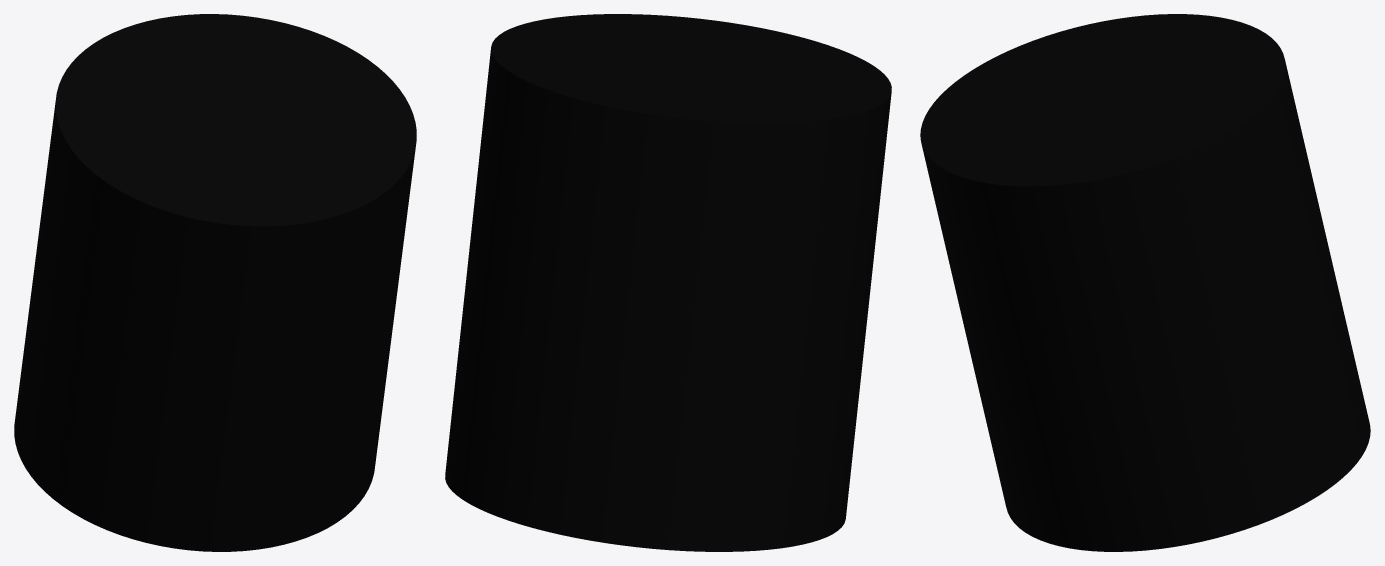
The model's file is cyl.glb.
The picture shows the model from 3 angles, left to right: view 1: azimuth 30°, elevation 25°; view 2: azimuth 150°, elevation 25°; view 3: azimuth 270°, elevation 25°; orthographic projection. The views are drawn at different scales.
Visible parts, largest first — view 1: mesh_id42; view 2: mesh_id42; view 3: mesh_id42.
Boxes of the visible parts, x1=… form: mesh_id42: x1=14, y1=14, x2=416, y2=551; mesh_id42: x1=445, y1=14, x2=891, y2=551; mesh_id42: x1=920, y1=14, x2=1370, y2=551.
Bounding box in the file's own units: 0.2113 × 0.2721 × 0.255.
1 material, 1 textured.
